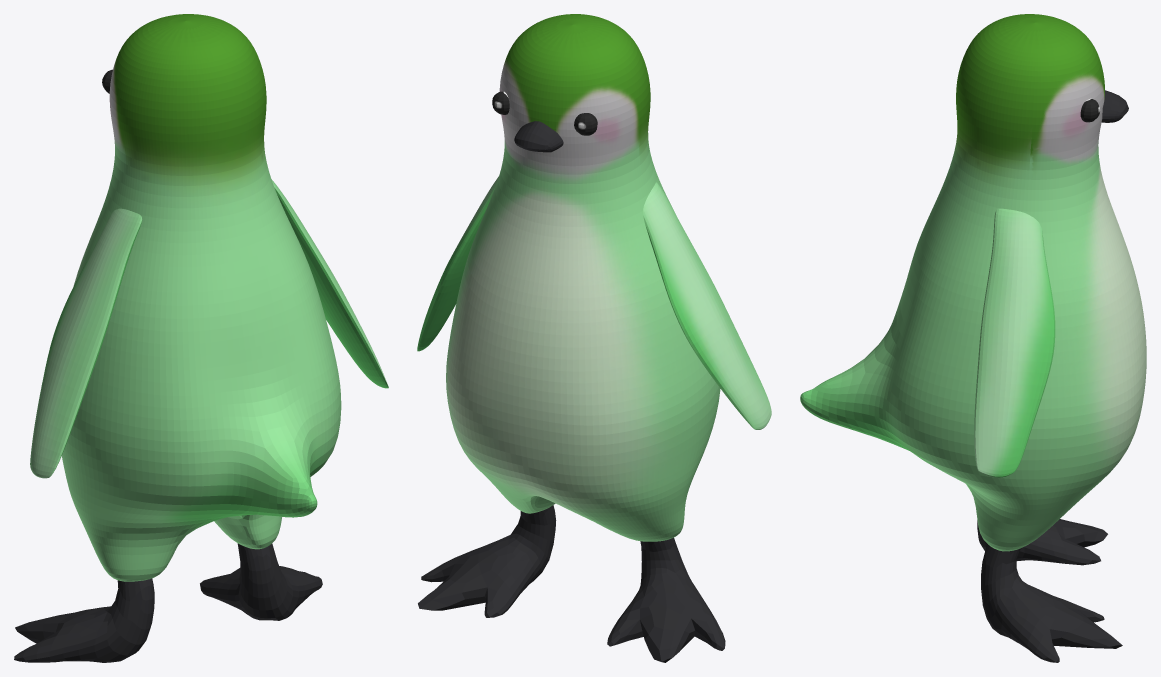
Rendered from Pen_g.glb.
3 views of the same model, side by side, from view 1: azimuth 30°, elevation 25°; view 2: azimuth 150°, elevation 25°; view 3: azimuth 270°, elevation 25° (orthographic). The views are drawn at different scales.
Parts seen in each view (by area): view 1: back_sample_mesh.003; view 2: back_sample_mesh.003; view 3: back_sample_mesh.003.
Part boxes in pixels (x1,y1,x2,y2): back_sample_mesh.003: (14,14,388,662); back_sample_mesh.003: (417,14,771,662); back_sample_mesh.003: (800,14,1146,662).
Size of the model in its own units: 4.3 by 7.1 by 3.87.
1 material, 1 textured.
